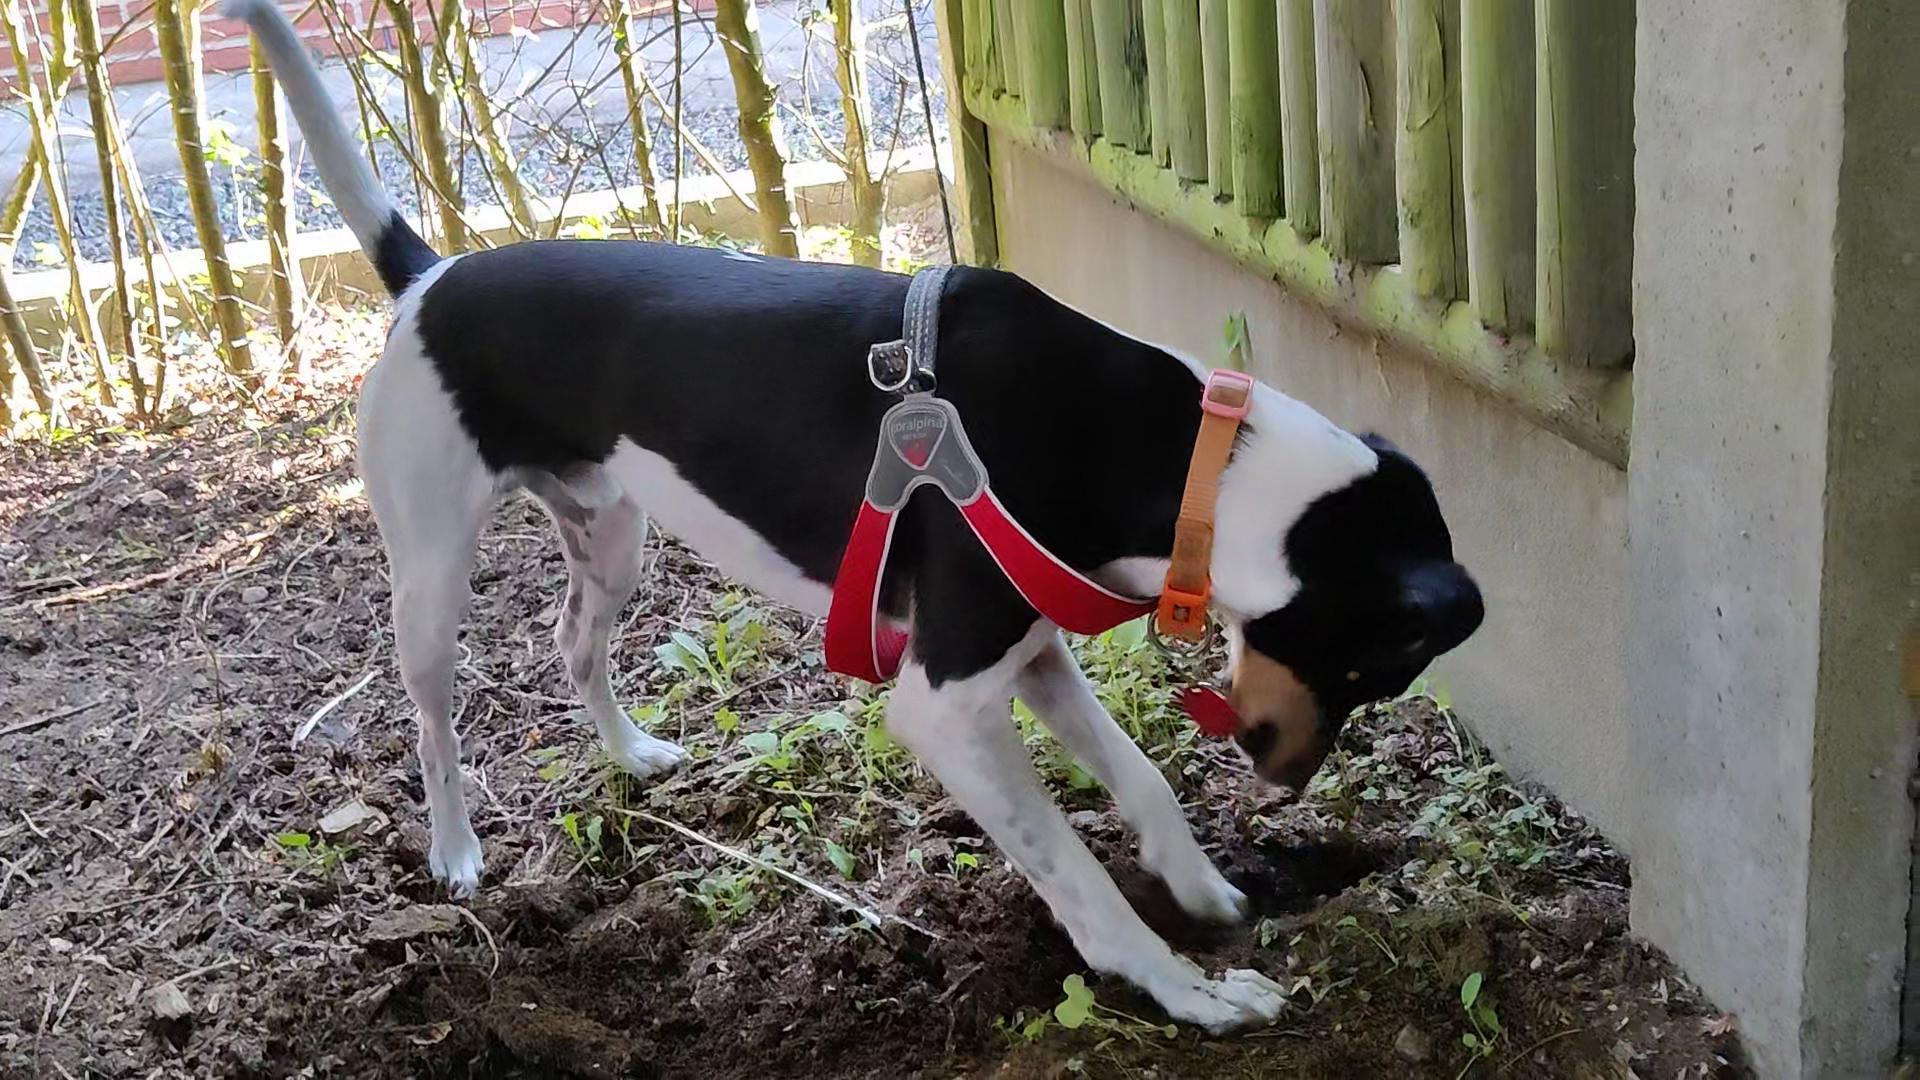Dog: (193, 0, 1491, 1038)
